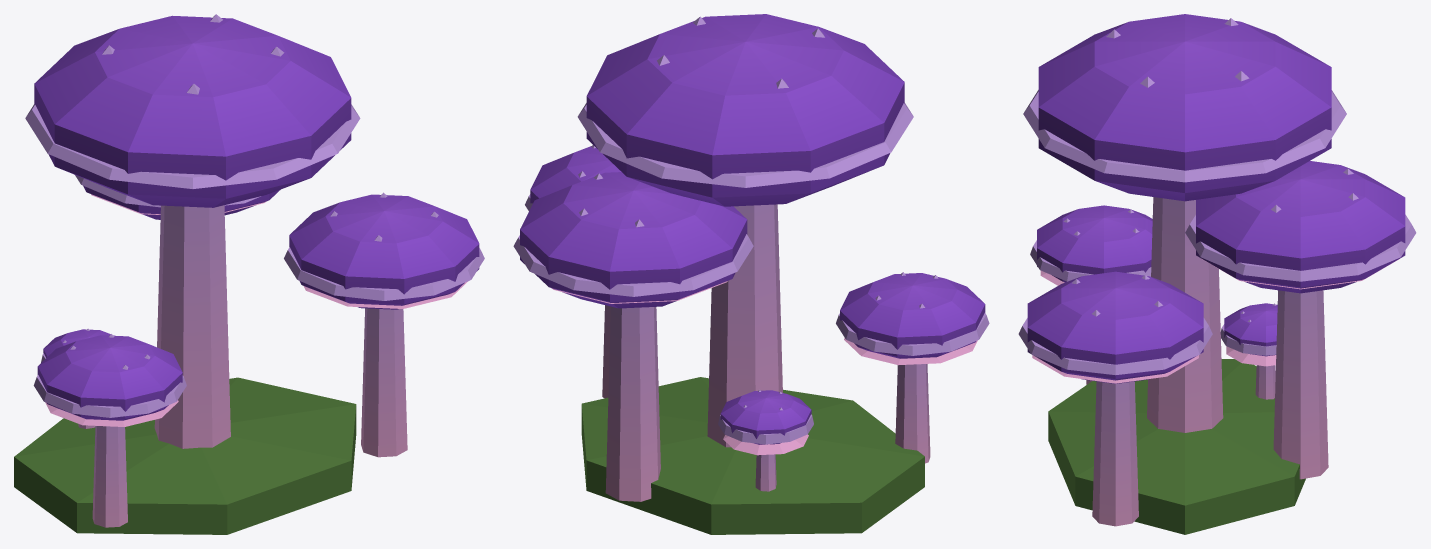
File: neon_mushrooms_violet.glb
The picture shows the model from 3 angles, left to right: view 1: azimuth 30°, elevation 25°; view 2: azimuth 150°, elevation 25°; view 3: azimuth 270°, elevation 25°; orthographic projection. The views are drawn at different scales.
Visible parts, largest first — view 1: neon_mushrooms_violet; view 2: neon_mushrooms_violet; view 3: neon_mushrooms_violet.
Boxes of the visible parts, x1,y1,x2,y2 form: neon_mushrooms_violet: (14, 14, 484, 534); neon_mushrooms_violet: (513, 14, 989, 534); neon_mushrooms_violet: (1018, 14, 1416, 534).
Size of the model in its own units: 2.09 by 2.05 by 1.72.
